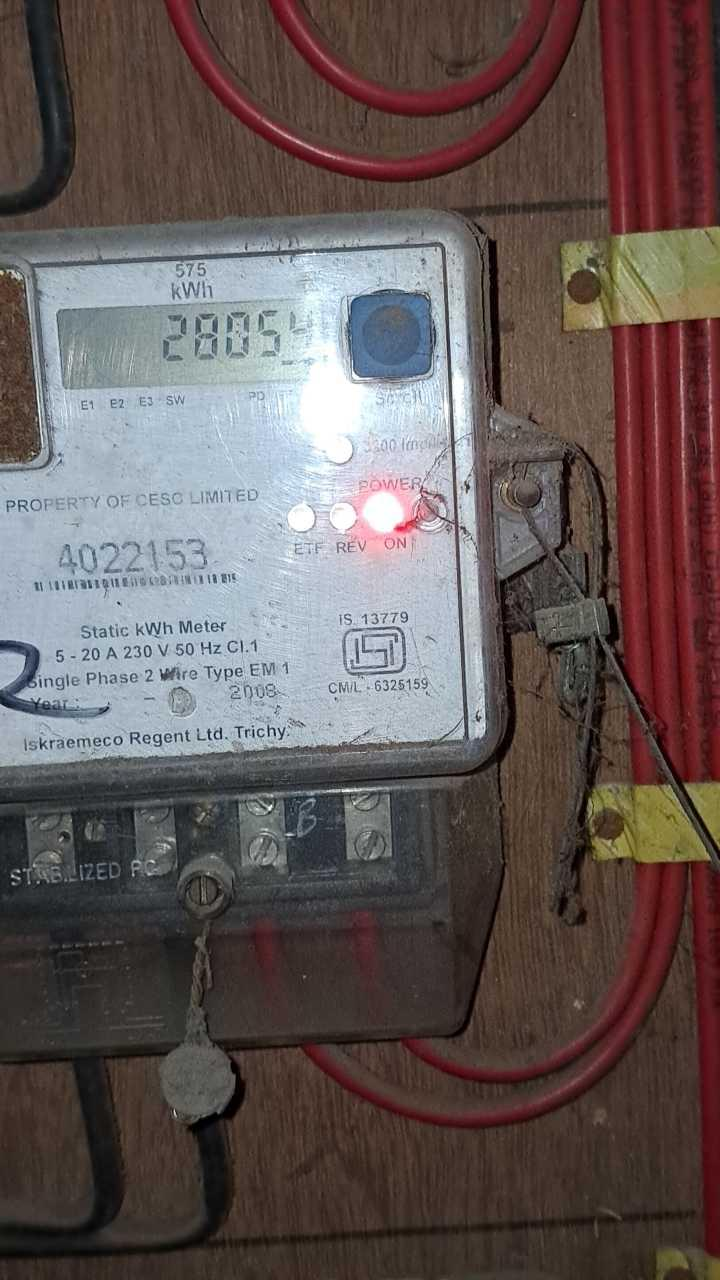meter_readings: (147, 307, 338, 367)
serial_number: (51, 536, 215, 574)
